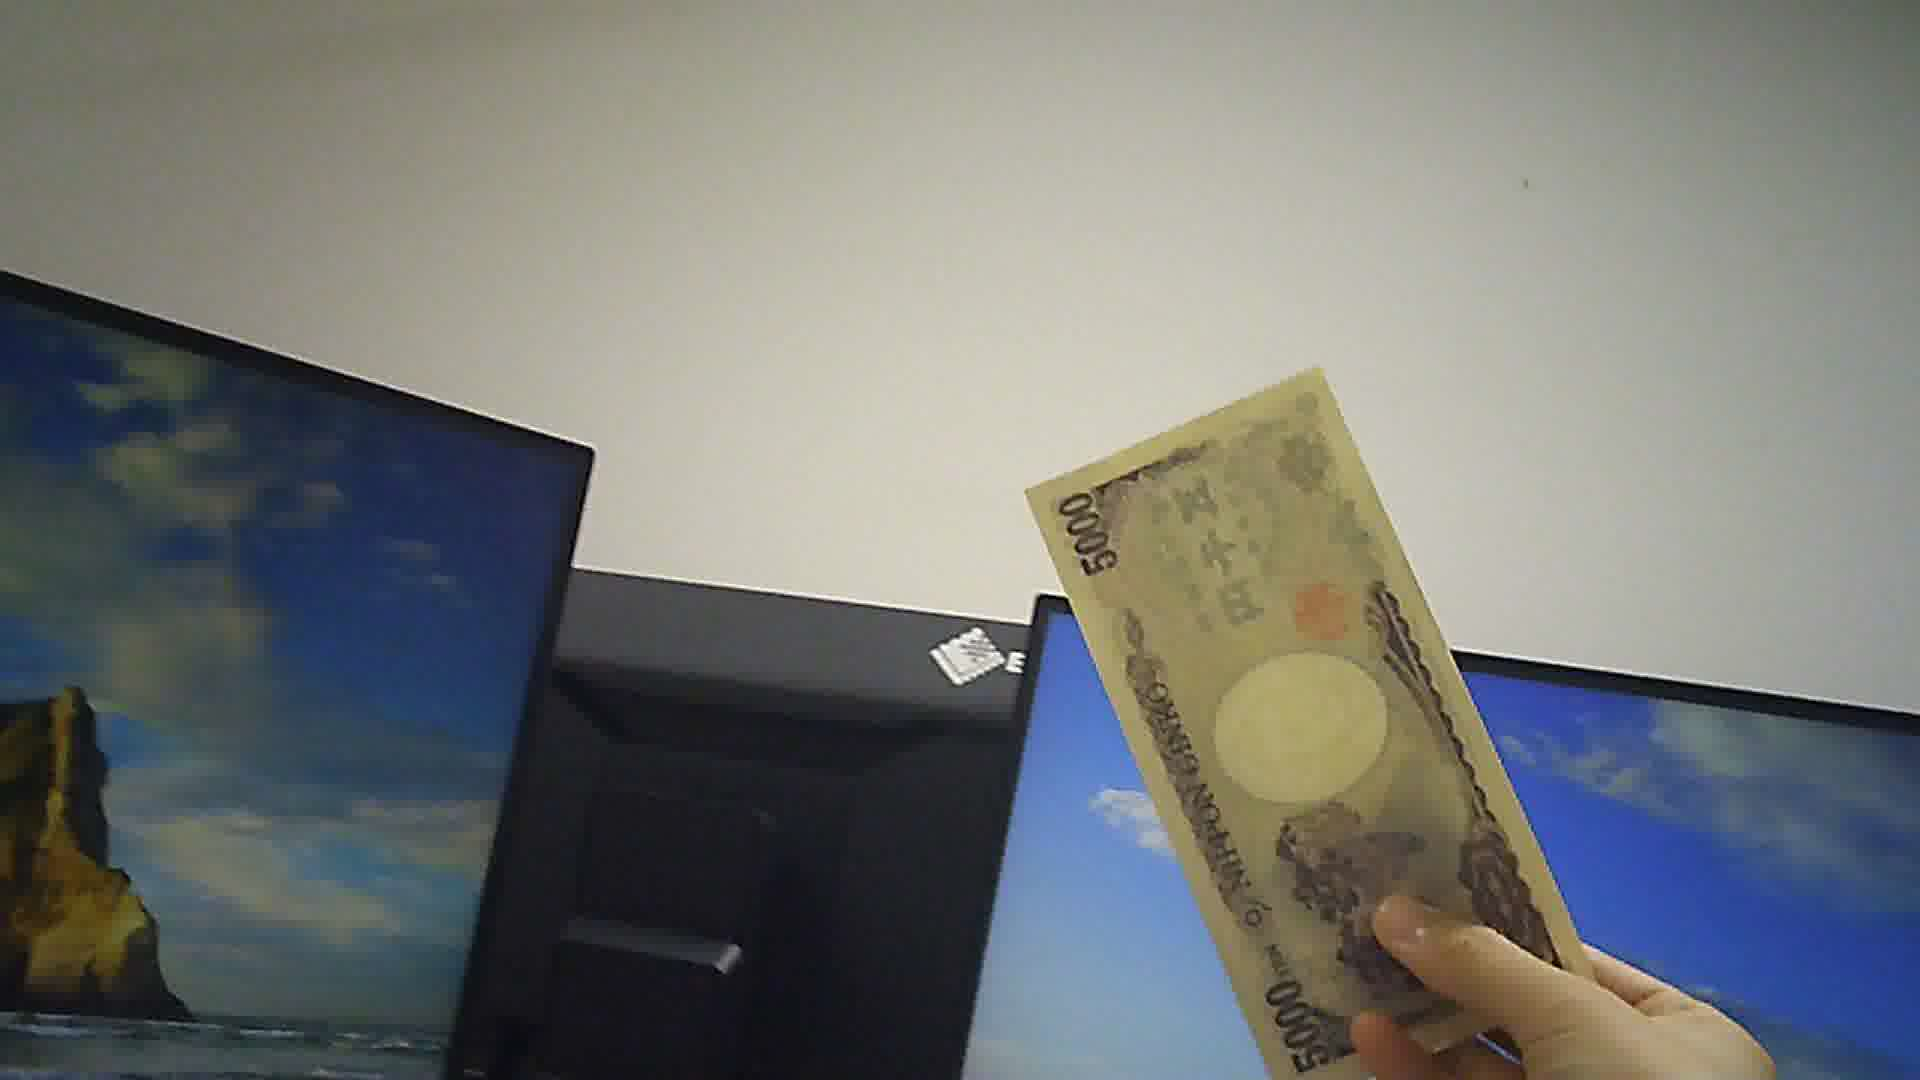5,000 Yen: (1021, 396, 1589, 1079)
